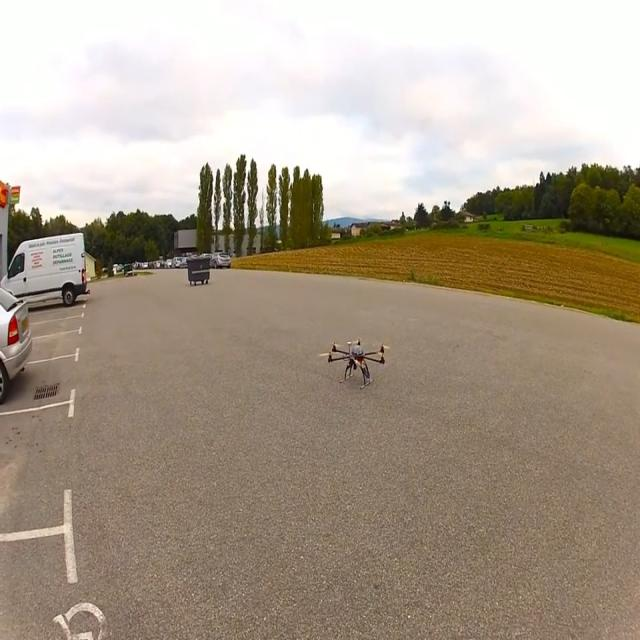drone: (318, 338, 389, 388)
